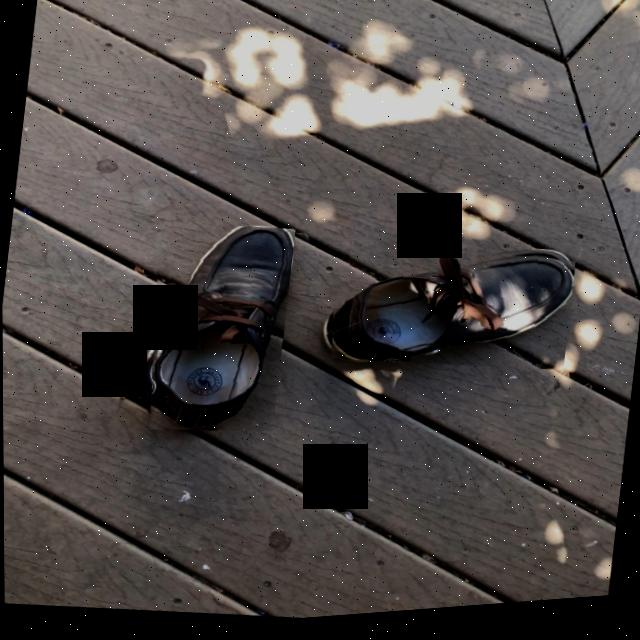shoe: (150, 230, 293, 434), (330, 260, 573, 367)
